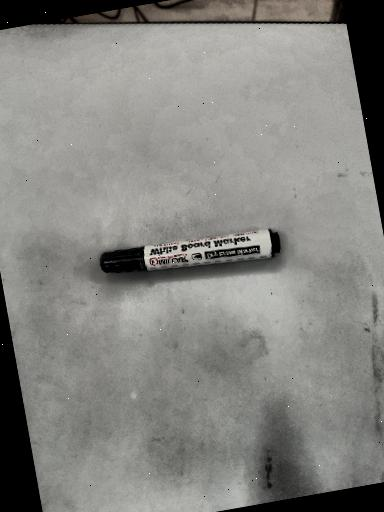marcador negro: (99, 229, 280, 273)
